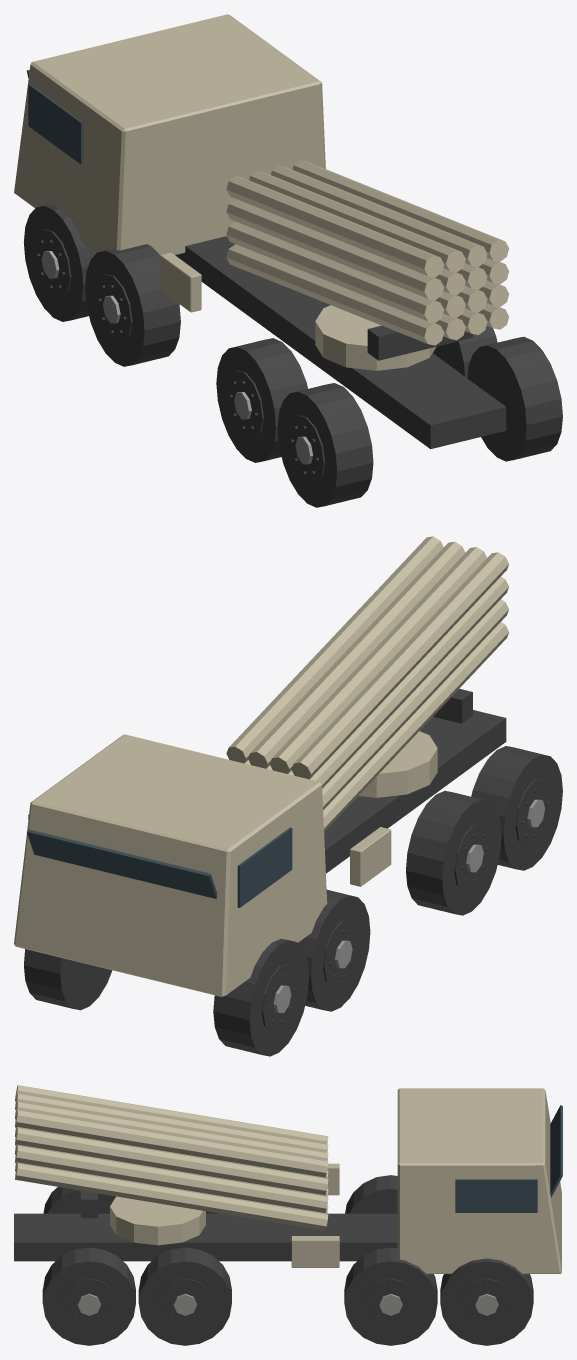
The model's file is rus_mlrs_urag.glb.
The picture shows the model from 3 angles, top to bottom: view 1: azimuth 30°, elevation 25°; view 2: azimuth 150°, elevation 25°; view 3: azimuth 270°, elevation 25°; orthographic projection. The views are drawn at different scales.
Visible parts, largest first — view 1: body, barrel, wheel_6, wheel_2, wheel_7, wheel_4, wheel_0, turret, wheel_5; view 2: body, barrel, wheel_4, wheel_6, wheel_0, wheel_2, wheel_1, turret; view 3: body, barrel, wheel_7, wheel_5, wheel_3, wheel_1, turret, wheel_2, wheel_6.
Boxes of the visible parts, <box> form: body: <box>14,14,506,449</box>; barrel: <box>226,160,508,360</box>; wheel_6: <box>277,383,373,507</box>; wheel_2: <box>85,244,180,366</box>; wheel_7: <box>467,336,562,461</box>; wheel_4: <box>216,338,307,462</box>; wheel_0: <box>23,204,96,321</box>; turret: <box>315,305,436,370</box>; wheel_5: <box>433,325,497,377</box>; body: <box>14,710,506,997</box>; barrel: <box>226,536,508,831</box>; wheel_4: <box>406,791,501,915</box>; wheel_6: <box>471,746,562,870</box>; wheel_0: <box>213,938,308,1056</box>; wheel_2: <box>298,889,370,1011</box>; wheel_1: <box>24,949,112,1010</box>; turret: <box>358,731,437,797</box>; body: <box>14,1088,562,1273</box>; barrel: <box>15,1085,328,1230</box>; wheel_7: <box>42,1247,135,1345</box>; wheel_5: <box>138,1247,231,1345</box>; wheel_3: <box>344,1247,437,1345</box>; wheel_1: <box>440,1258,533,1345</box>; turret: <box>110,1196,205,1245</box>; wheel_2: <box>345,1175,397,1213</box>; wheel_6: <box>43,1187,115,1213</box>.
Bounding box in the file's own units: 3.1 × 3.3 × 8.01.
